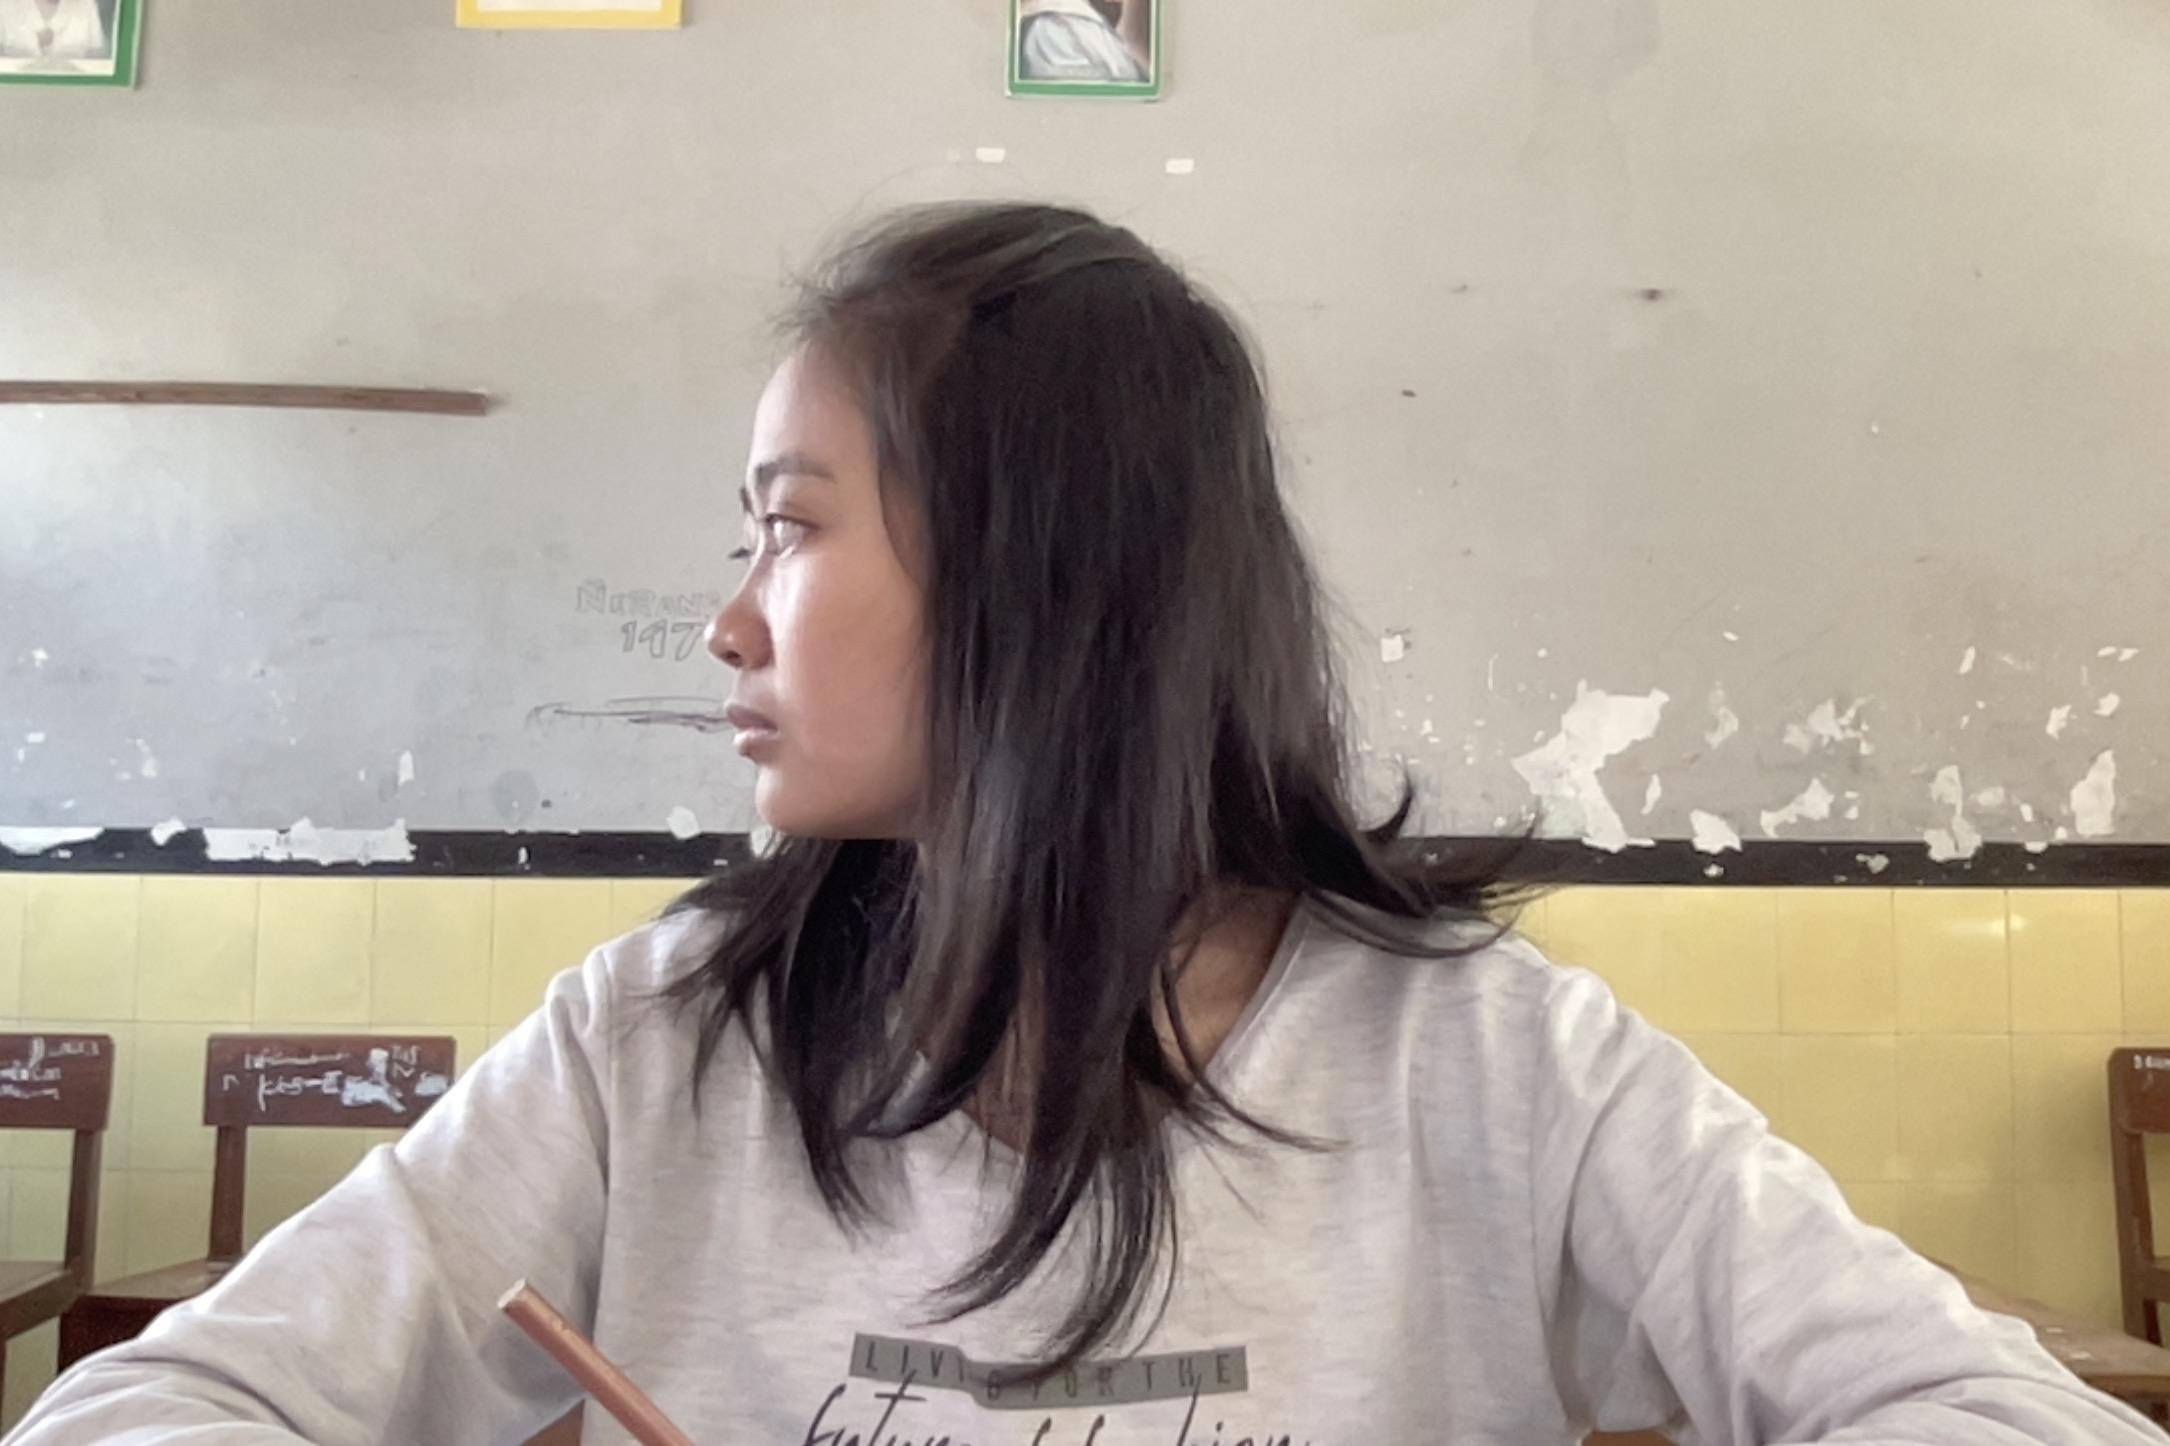cheating: (15, 153, 2170, 1446)
